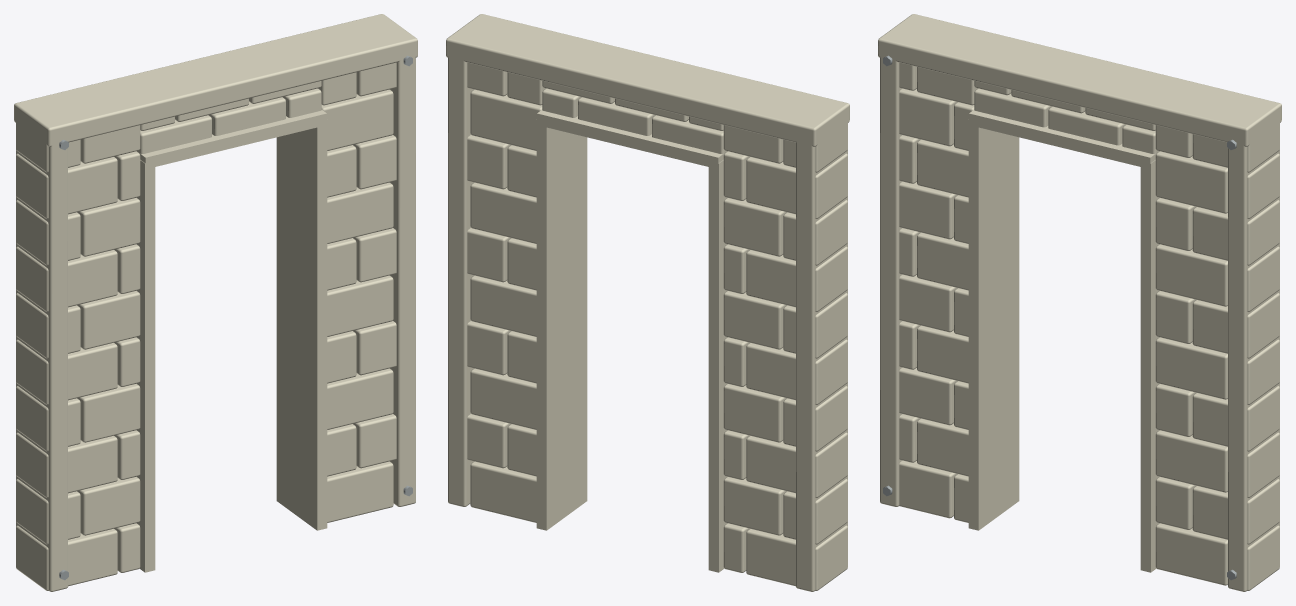
Rendered from bunker-shelter-construction-shelter-door-wall-15ab185d__23284.glb.
The picture shows the model from 3 angles, left to right: view 1: azimuth 30°, elevation 25°; view 2: azimuth 150°, elevation 25°; view 3: azimuth 330°, elevation 25°; orthographic projection.
Parts seen in each view (by area): view 1: shelter-door-wall; view 2: shelter-door-wall; view 3: shelter-door-wall.
Boxes of the visible parts, x1=… form: shelter-door-wall: x1=14, y1=14, x2=417, y2=591; shelter-door-wall: x1=446, y1=14, x2=849, y2=591; shelter-door-wall: x1=878, y1=14, x2=1281, y2=591.
Bounding box in the file's own units: 2 × 2.4 × 0.388.
